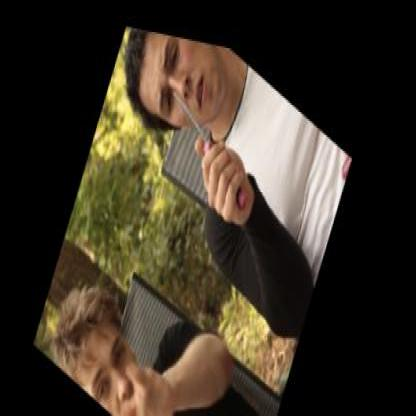knife: (150, 67, 250, 201)
